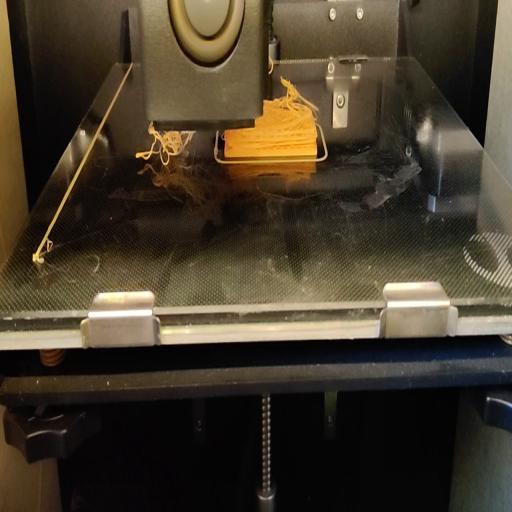spaghetti: (136, 121, 192, 163)
